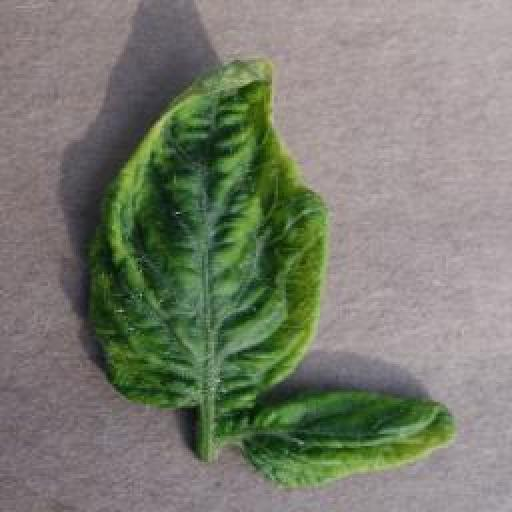Yellow Leaf Curl Virus: (88, 58, 330, 406), (247, 383, 459, 488)
